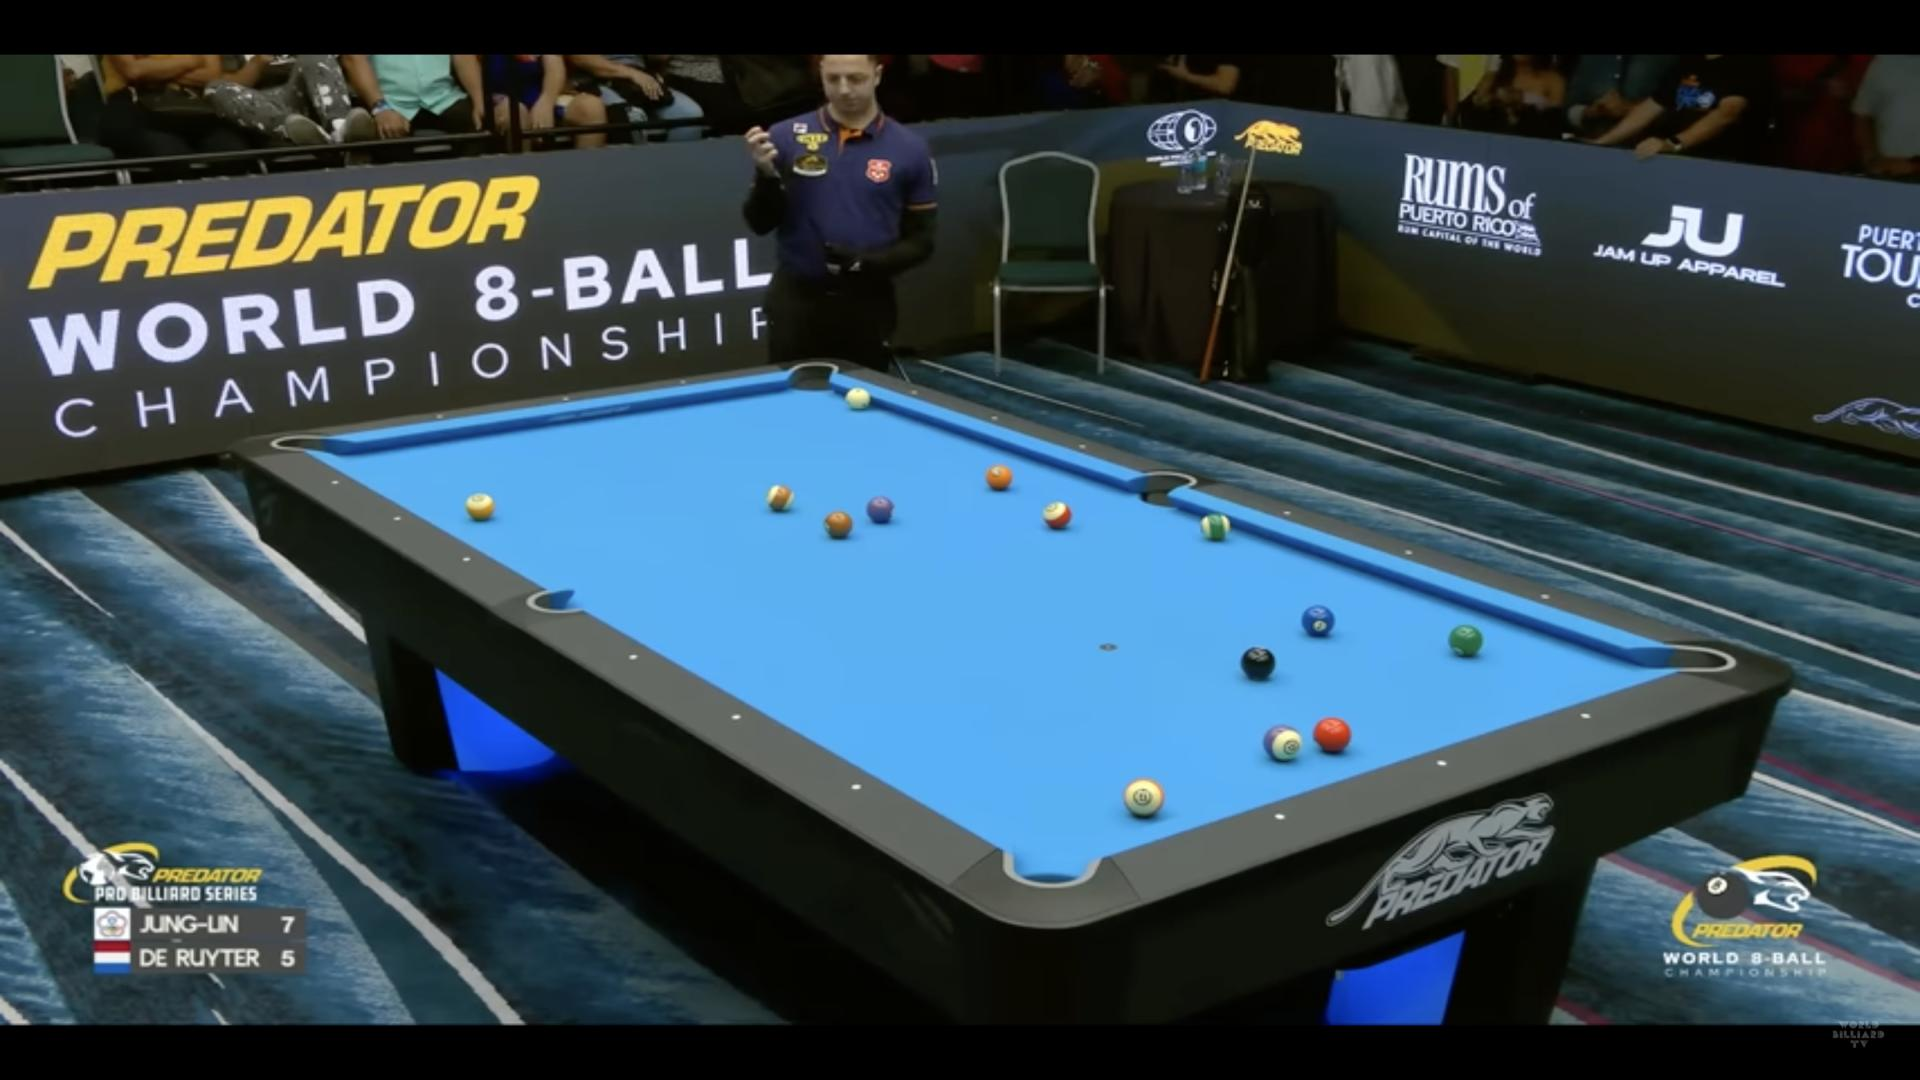Black: (1241, 647, 1274, 679)
Cue: (845, 388, 870, 410)
Dot: (1578, 709, 1592, 721), (1436, 757, 1448, 769), (1274, 811, 1286, 822), (392, 513, 404, 524), (330, 476, 342, 487), (1540, 592, 1551, 601), (1403, 547, 1414, 556), (629, 653, 640, 662), (462, 555, 472, 564), (434, 413, 444, 422), (1282, 508, 1291, 517), (852, 782, 861, 791), (731, 712, 741, 720), (910, 389, 919, 396), (1079, 443, 1087, 450), (990, 414, 998, 421), (562, 396, 568, 402), (680, 378, 687, 385)
Solid: (1313, 717, 1352, 753), (1302, 604, 1335, 637), (1449, 625, 1484, 657), (823, 512, 852, 538), (866, 497, 894, 524), (986, 464, 1011, 489)
Striped: (1124, 778, 1164, 816), (1262, 725, 1303, 761), (465, 492, 495, 520), (1042, 501, 1072, 527), (1201, 513, 1230, 539), (767, 484, 794, 512)
